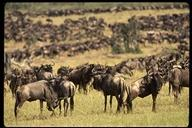antelope: (119, 68, 165, 113), (14, 78, 60, 118), (90, 66, 127, 113), (48, 72, 76, 116), (161, 64, 189, 103)
grass: (82, 113, 188, 126)
